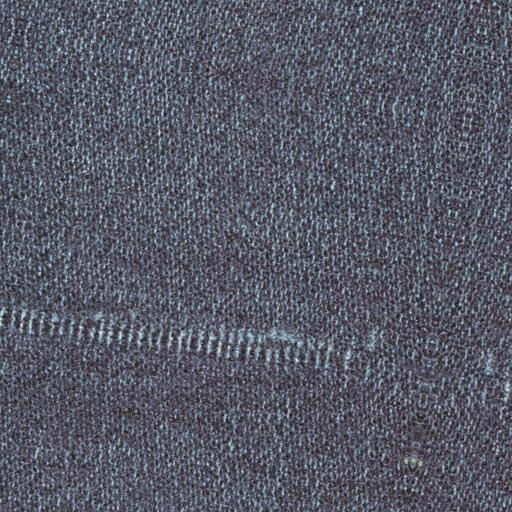slub: (3, 301, 356, 382)
